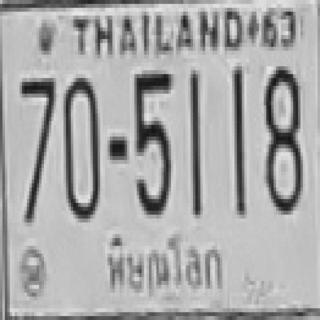N00: (62, 74, 99, 218)
N01: (189, 70, 202, 215), (232, 64, 244, 213)
N05: (133, 70, 172, 215)
N07: (20, 74, 54, 218)
N08: (264, 62, 303, 211)
P46: (100, 232, 230, 303)
